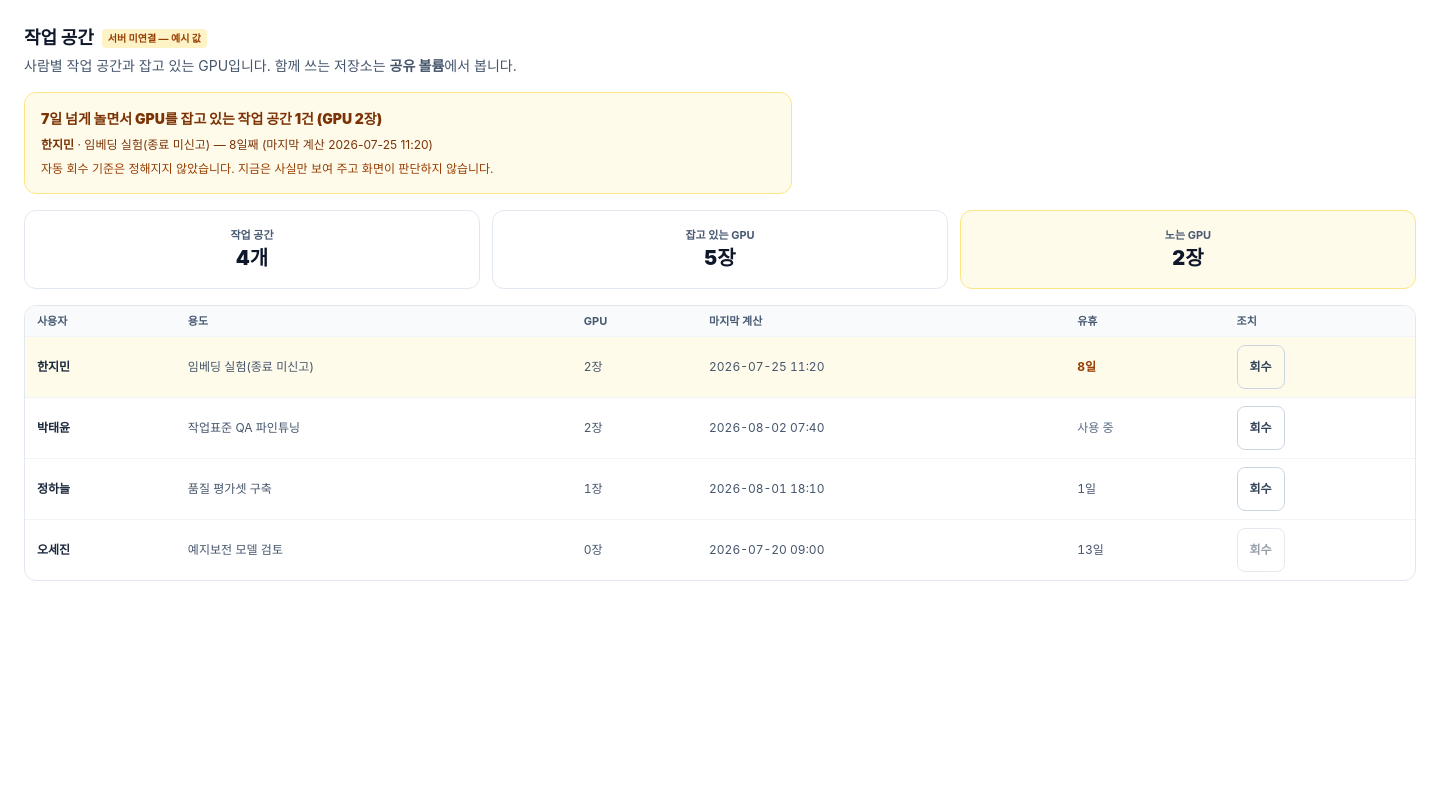
Scenario: 개발 환경 › 회수는 성공한 척하지 않는다
Click the 1st button "회수".
click(1261, 367)  # box [1236,345,1285,389]
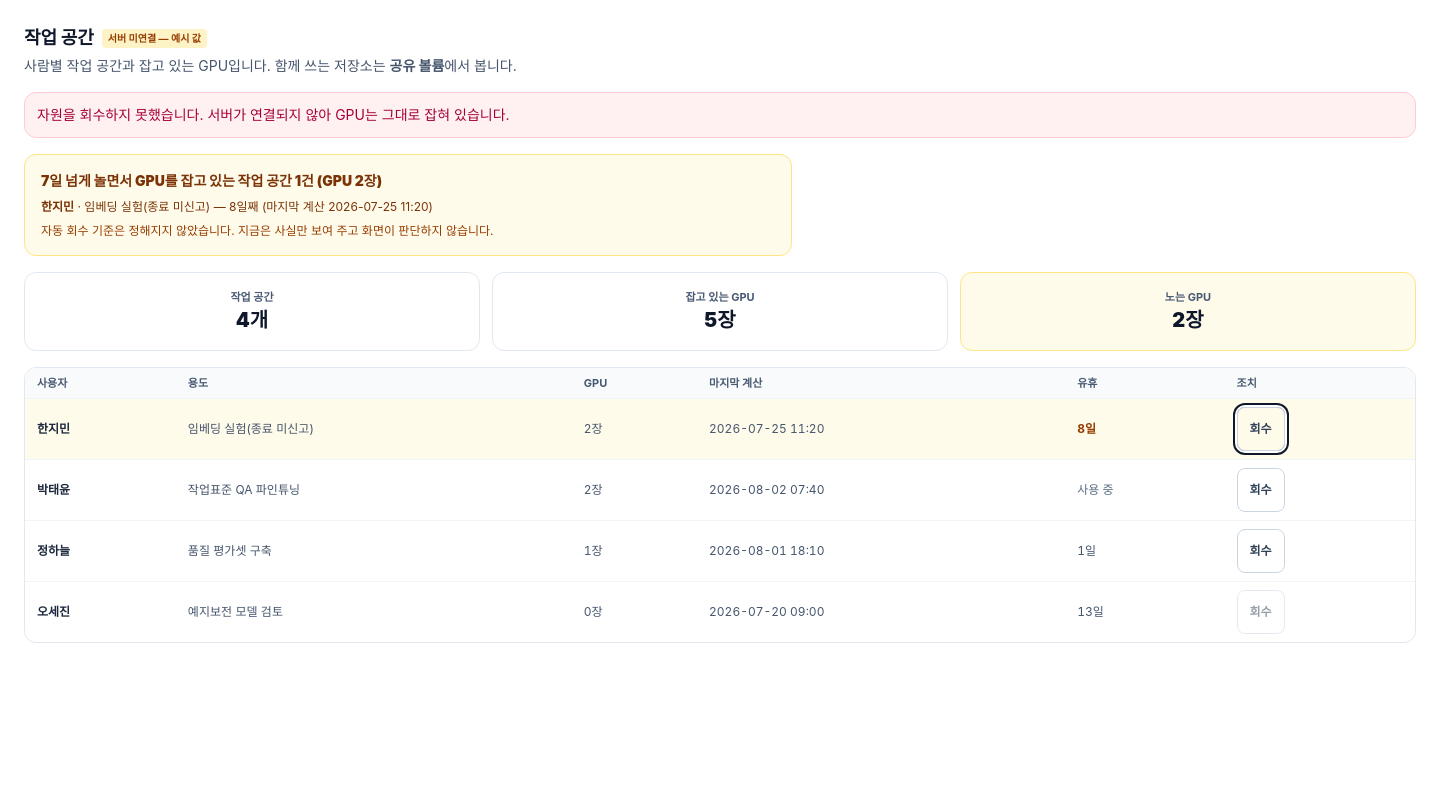
Result: the message shows "GPU는 그대로 잡혀 있습니다" at [37,106,510,123]
